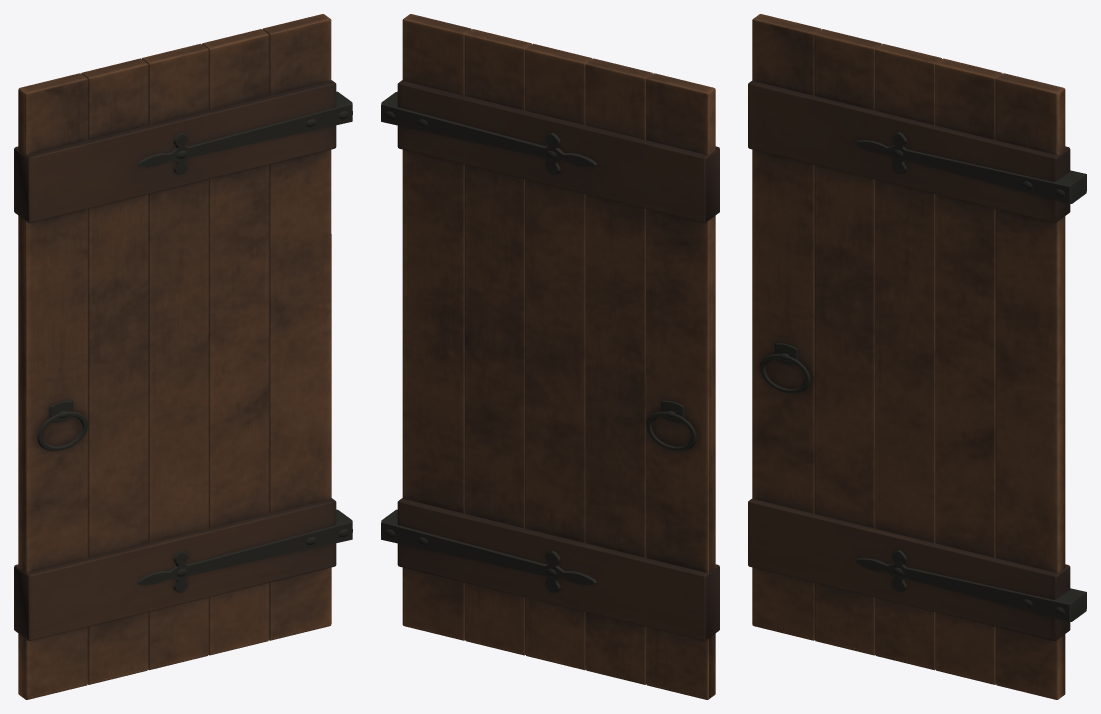
The model's file is BW_Cottage01_DoorLeaf.fbx.
3 renders of one model, left to right at view 1: azimuth 30°, elevation 25°; view 2: azimuth 150°, elevation 25°; view 3: azimuth 330°, elevation 25°, orthographic.
Parts seen in each view (by area): view 1: BW_Cottage01_DoorLeaf; view 2: BW_Cottage01_DoorLeaf; view 3: BW_Cottage01_DoorLeaf.
Boxes of the visible parts, left/top/right/bottom form: BW_Cottage01_DoorLeaf: left=14, top=14, right=352, bottom=699; BW_Cottage01_DoorLeaf: left=381, top=14, right=719, bottom=699; BW_Cottage01_DoorLeaf: left=748, top=14, right=1086, bottom=699.
Size of the model in its own units: 1.27 by 2.27 by 0.1318.
